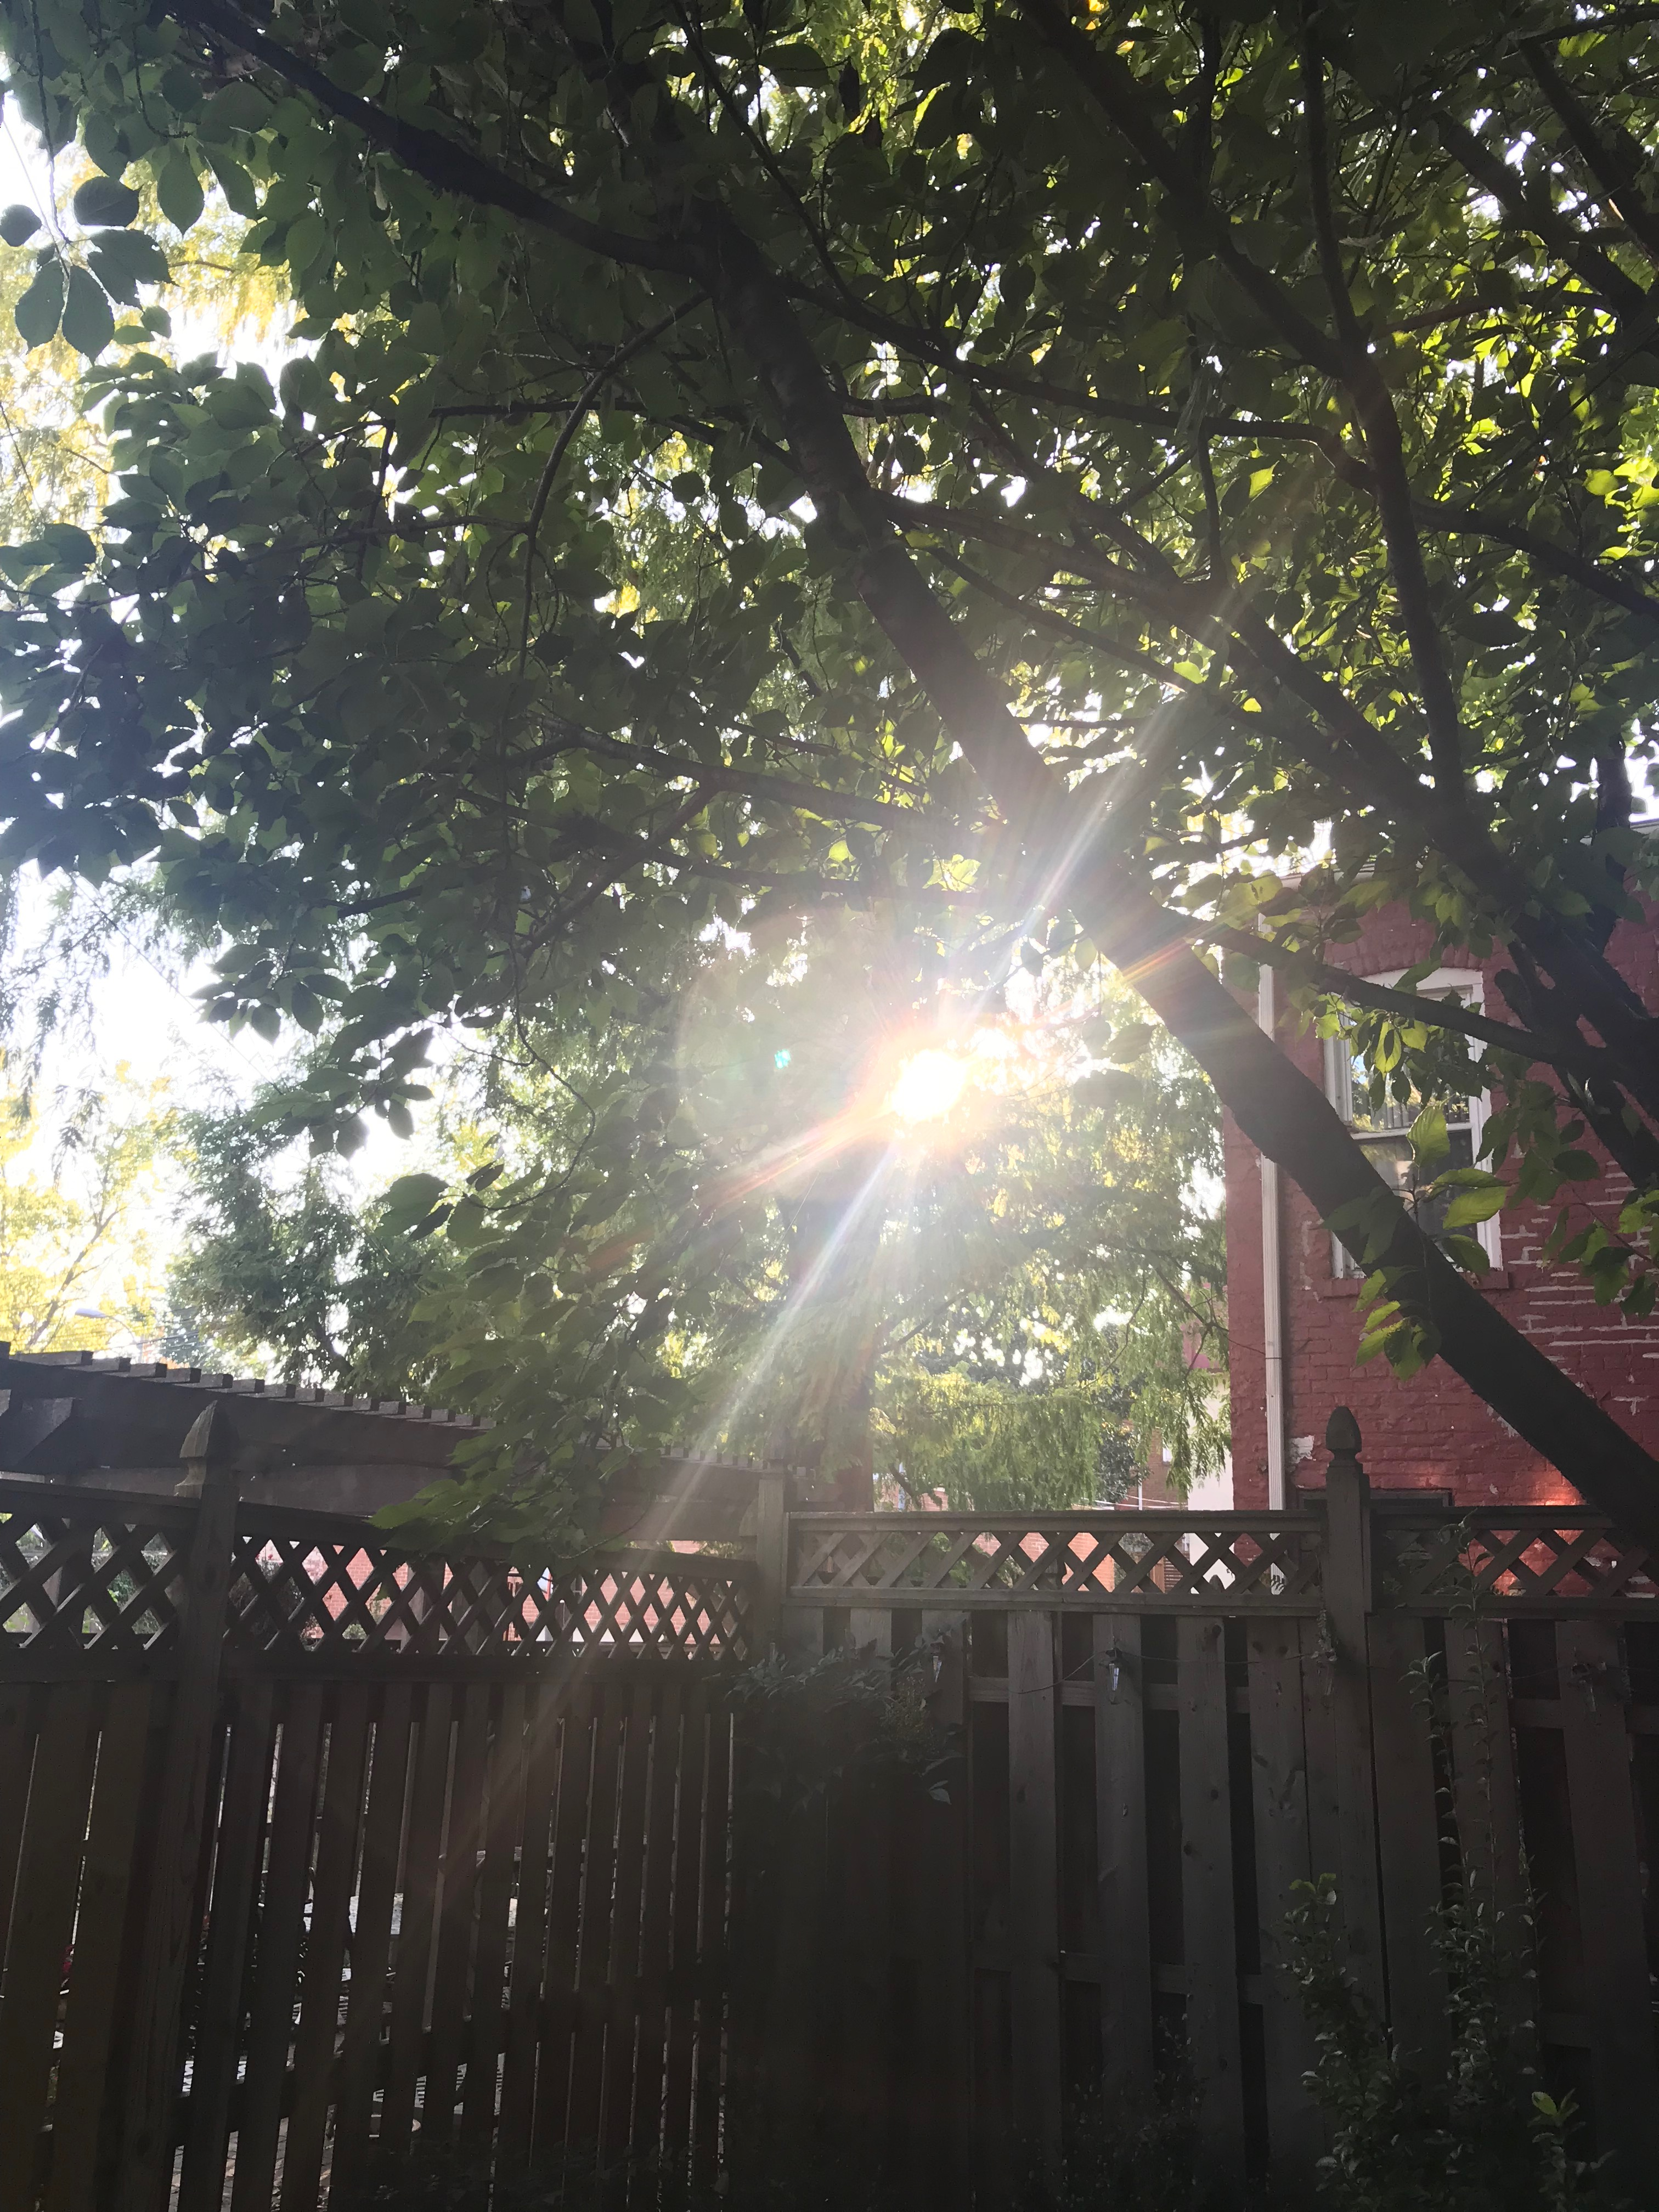flare: (772, 1049, 793, 1071)
